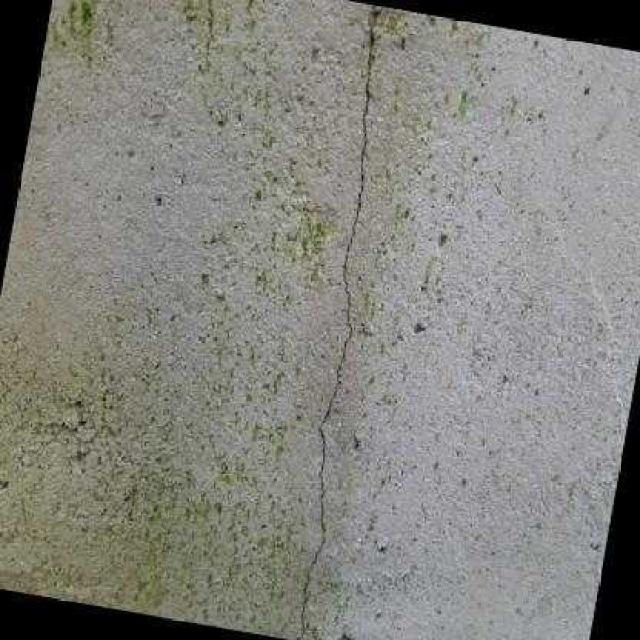D00: (295, 3, 378, 640)
